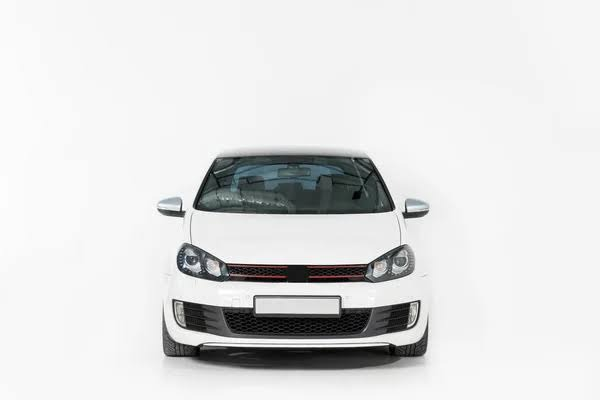car: (152, 148, 435, 353)
